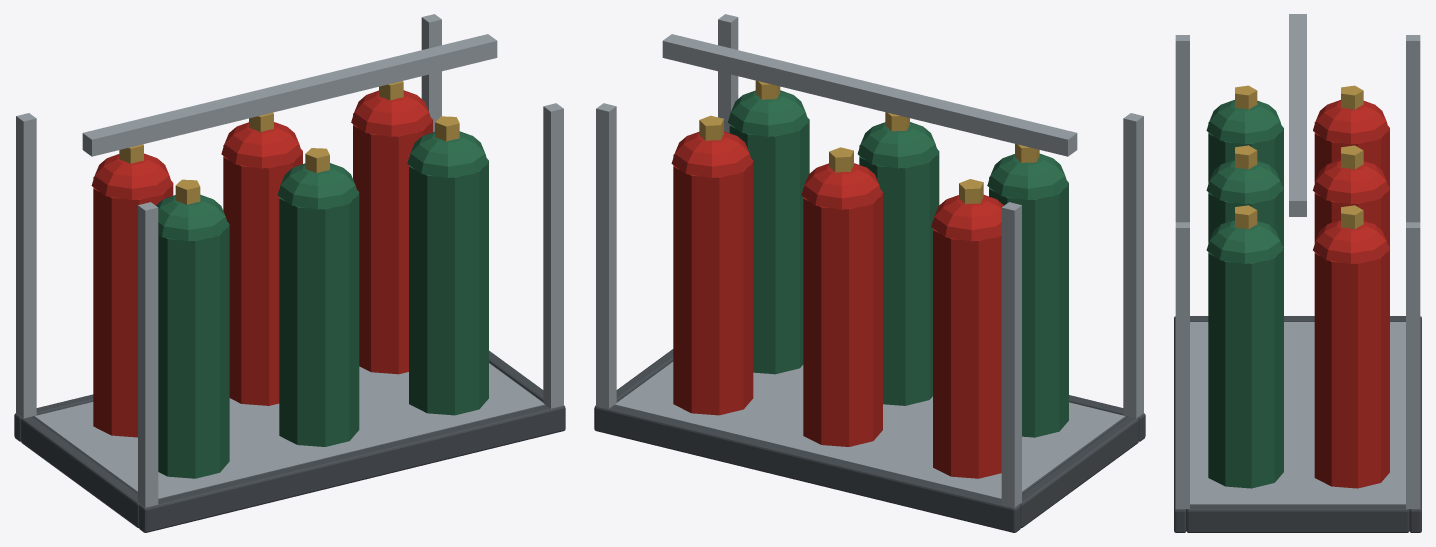
File: prp_gas_cylinders.glb
3 renders of one model, left to right at view 1: azimuth 30°, elevation 25°; view 2: azimuth 150°, elevation 25°; view 3: azimuth 270°, elevation 25°, orthographic. The views are drawn at different scales.
Parts seen in each view (by area): view 1: prp_gas_cylinders; view 2: prp_gas_cylinders; view 3: prp_gas_cylinders.
Part boxes in pixels (x1,y1,x2,y2): prp_gas_cylinders: (14, 14, 565, 532); prp_gas_cylinders: (594, 14, 1145, 532); prp_gas_cylinders: (1174, 14, 1421, 532).
Bounding box in the file's own units: 2.6 × 2.05 × 1.4.
